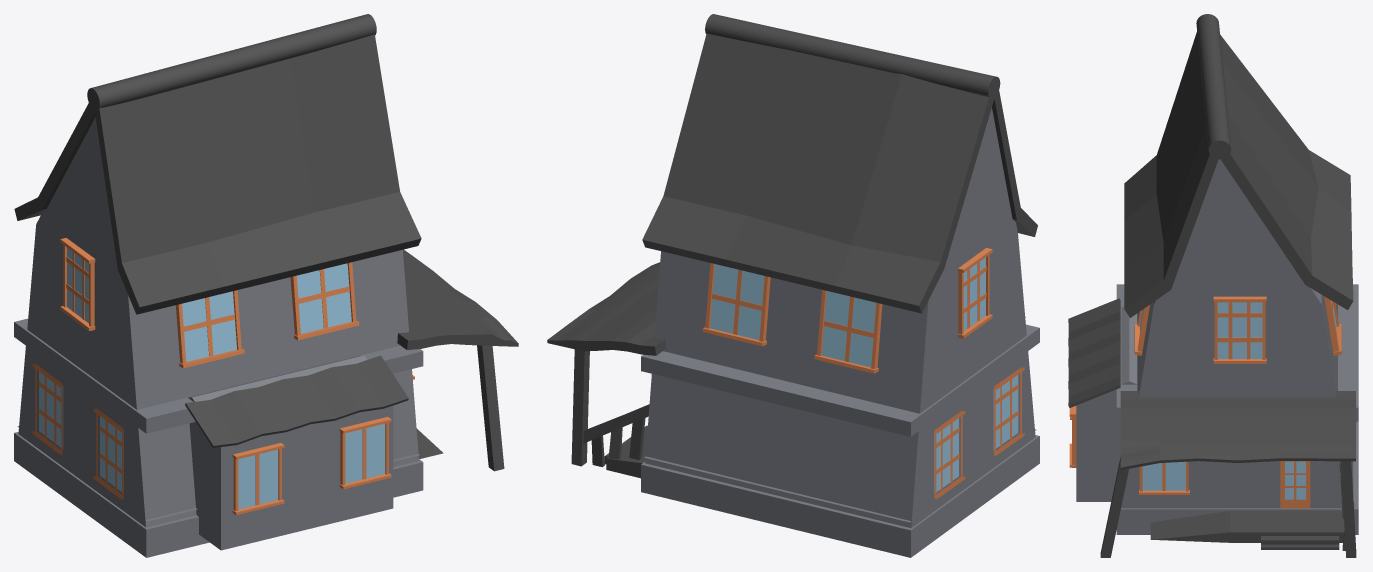
Rendered from Scrumptious_House1.fbx.
3 views of the same model, side by side, from view 1: azimuth 30°, elevation 25°; view 2: azimuth 150°, elevation 25°; view 3: azimuth 270°, elevation 25° (orthographic). The views are drawn at different scales.
Visible parts, largest first — view 1: Cube.031; view 2: Cube.031; view 3: Cube.031.
Part boxes in pixels (box(x1,y1,x2,y2)): Cube.031: box(14, 14, 518, 557); Cube.031: box(547, 14, 1039, 557); Cube.031: box(1068, 14, 1358, 557).
Size of the model in its own units: 753 by 822 by 546.
